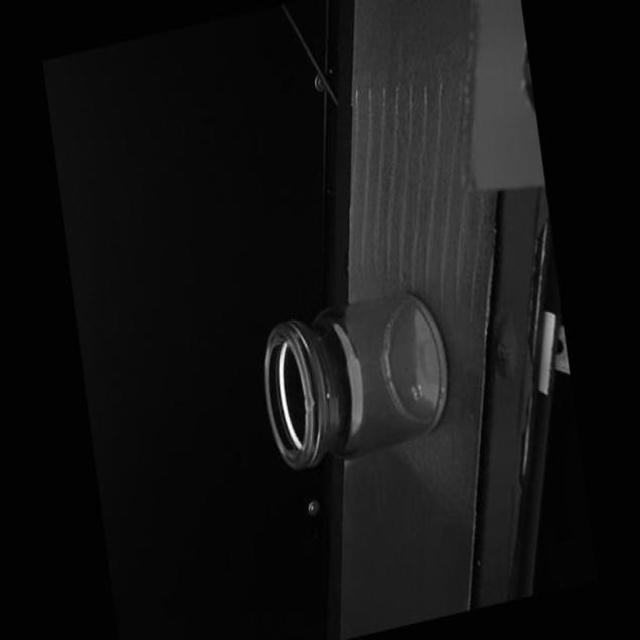defect: (301, 388, 319, 416), (325, 390, 331, 397)
glass: (255, 282, 456, 476)
